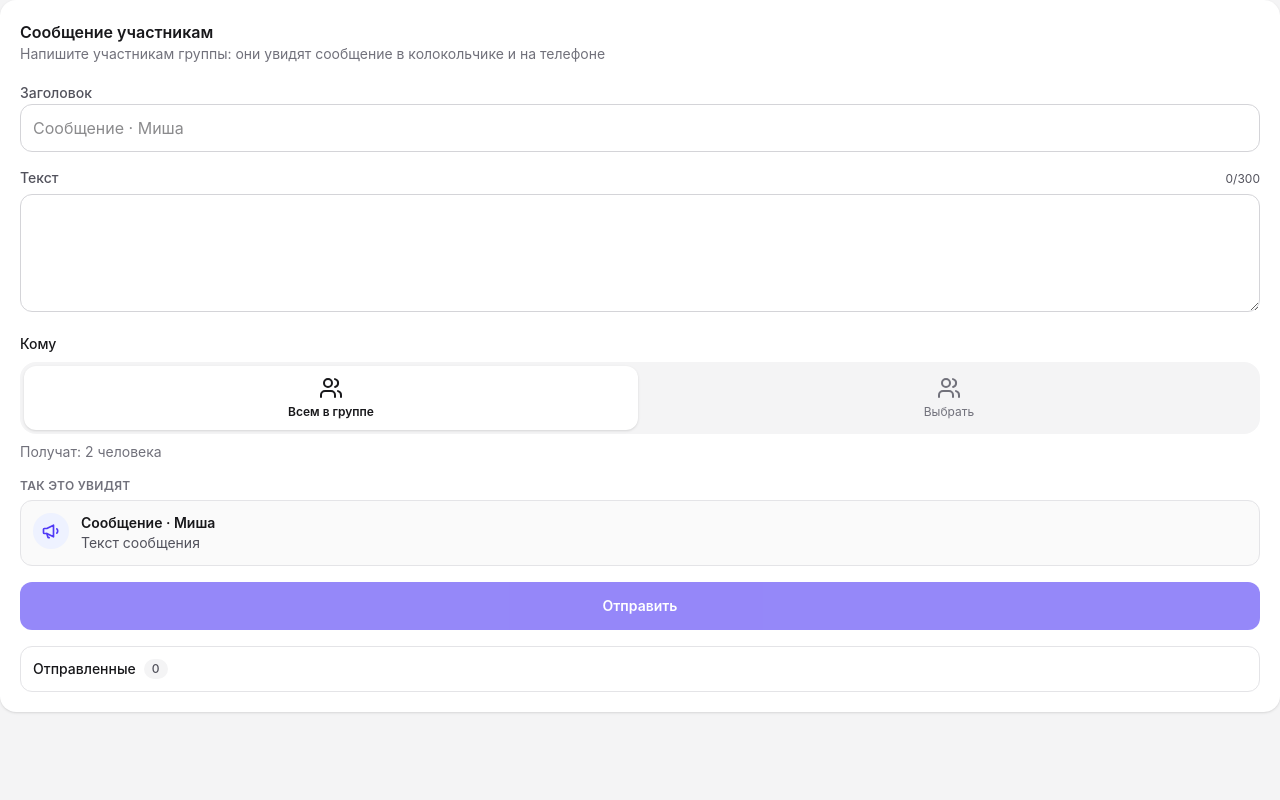
карточка владельца › ошибка сервера показывается в карточке, текст остаётся
In the text box labelled "Текст": (640, 253) x1=20 y1=194 x2=1260 y2=312, type "Привет"
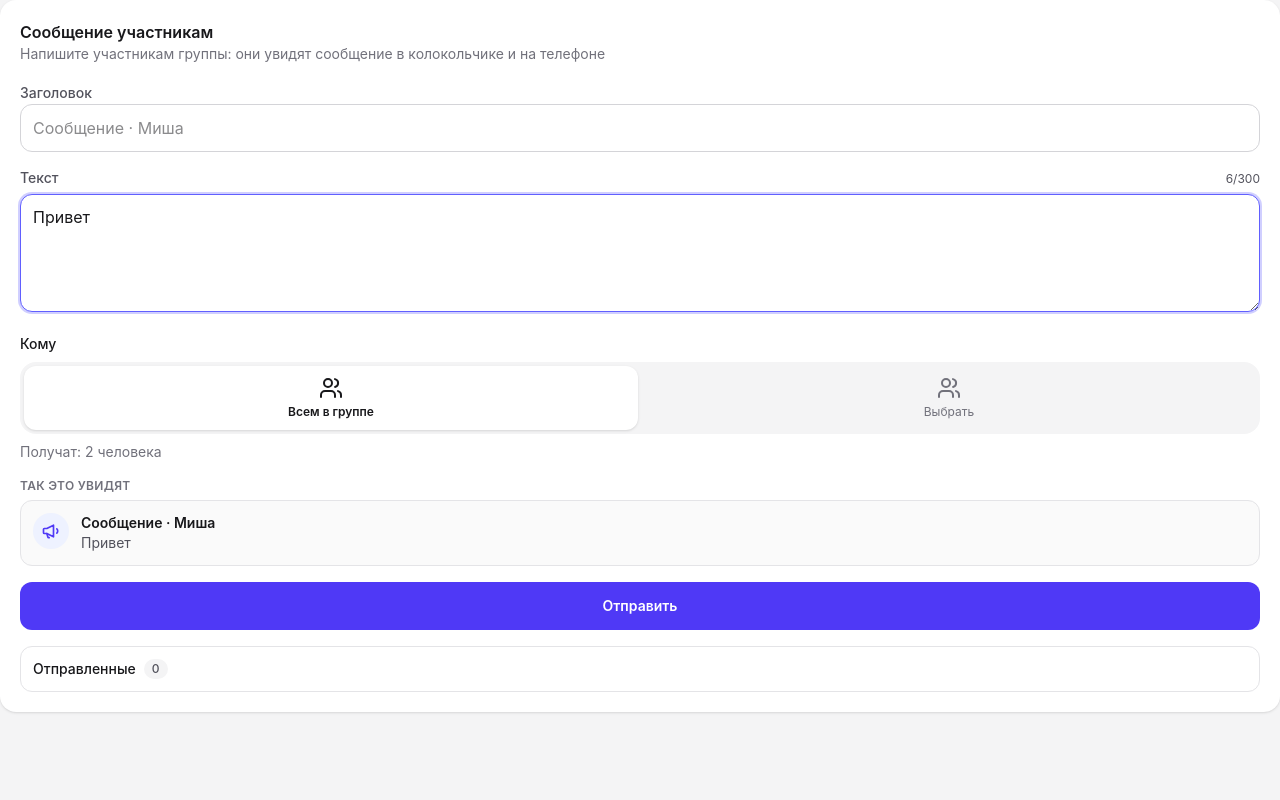
Click the button "Отправить": (640, 606) x1=20 y1=582 x2=1260 y2=630
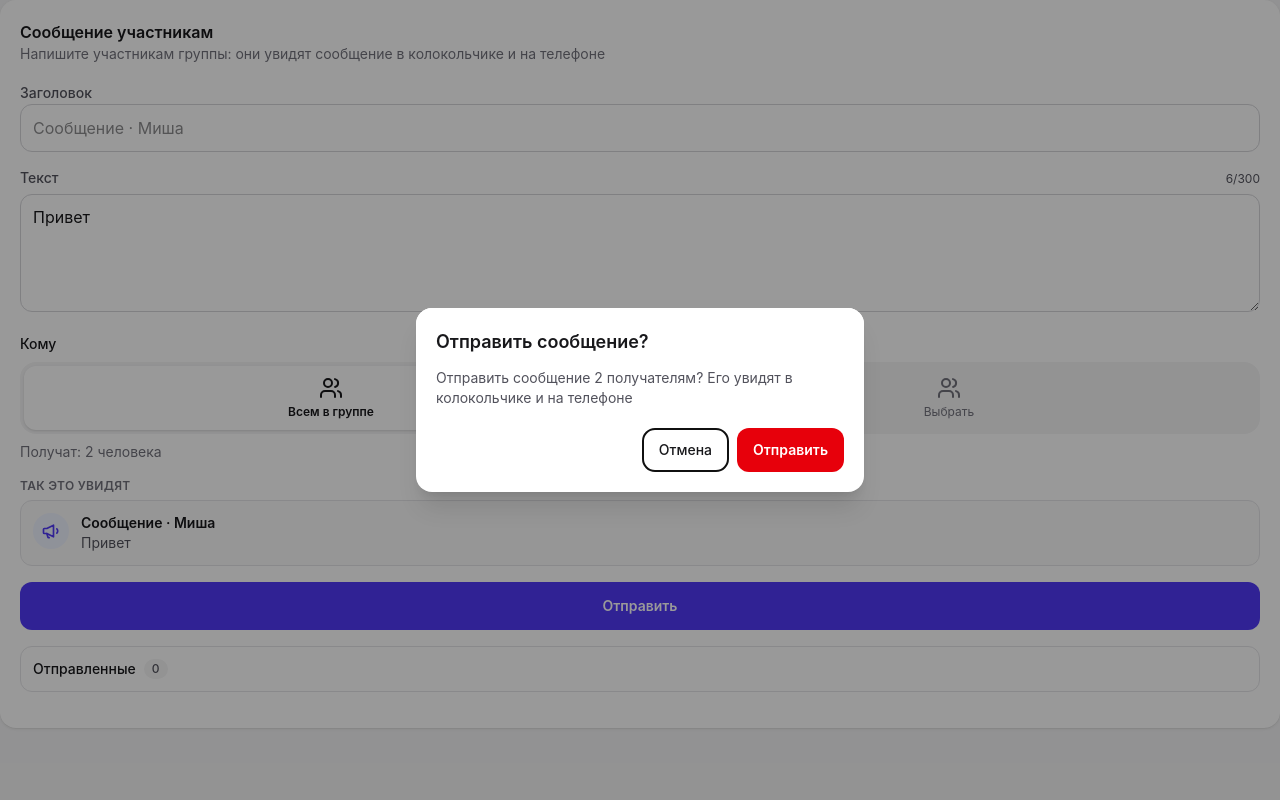
Click the button "Отправить": (790, 450) x1=737 y1=428 x2=844 y2=472
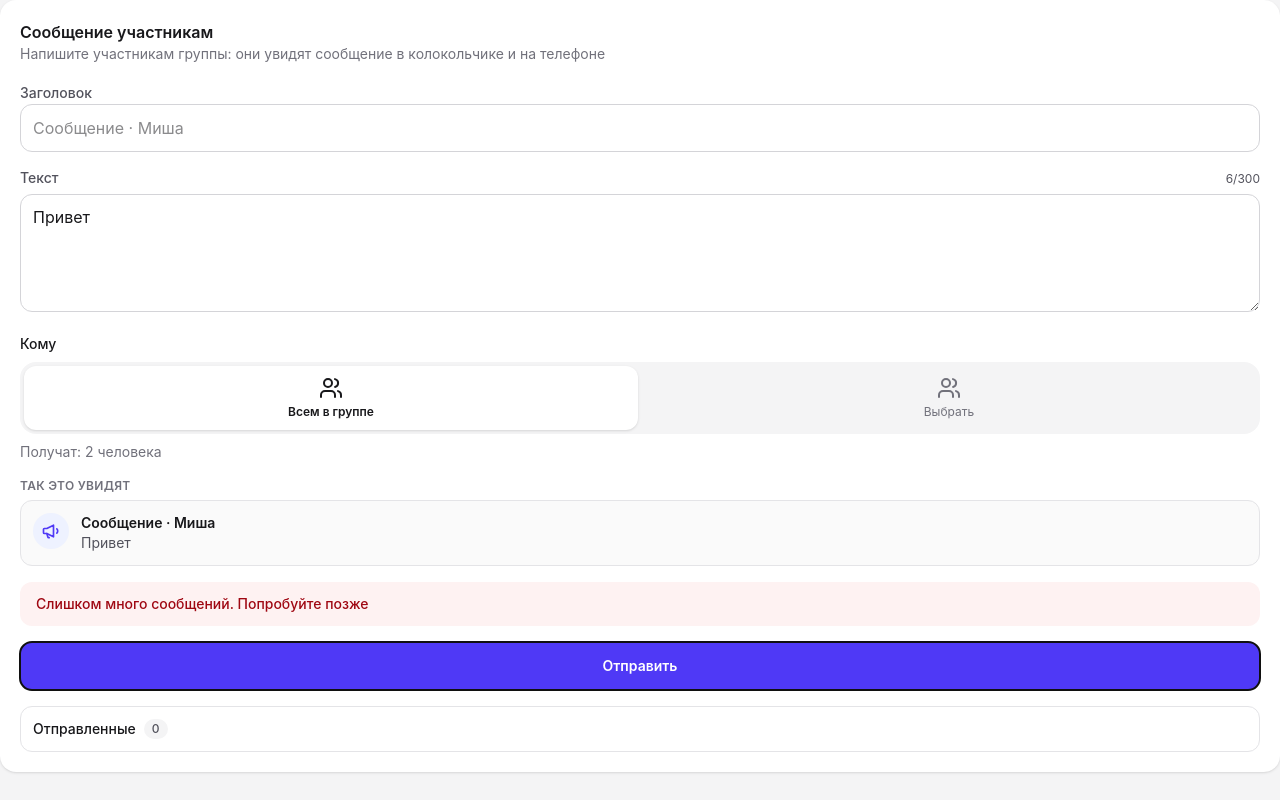
Expected: the text "Слишком много сообщений. Попробуйте позже" is shown, x1=20 y1=582 x2=1260 y2=626
